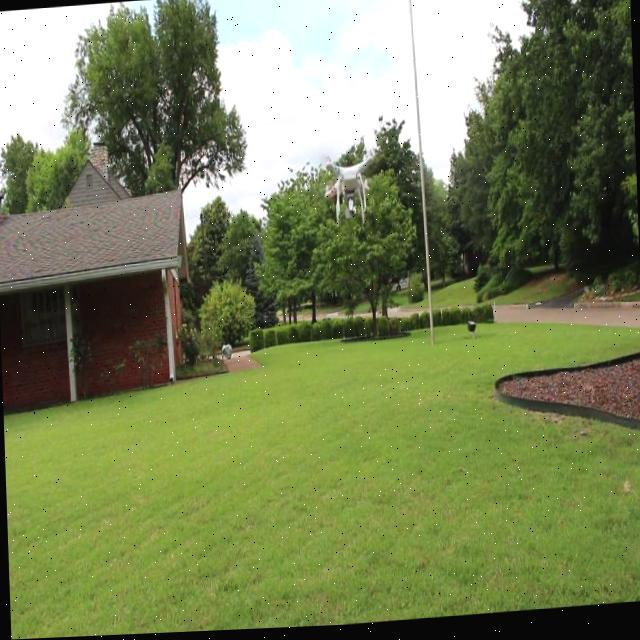drone: (317, 148, 379, 232)
